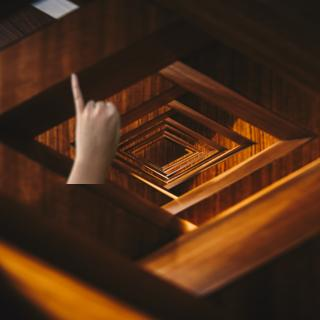FINE: (67, 72, 123, 167)
